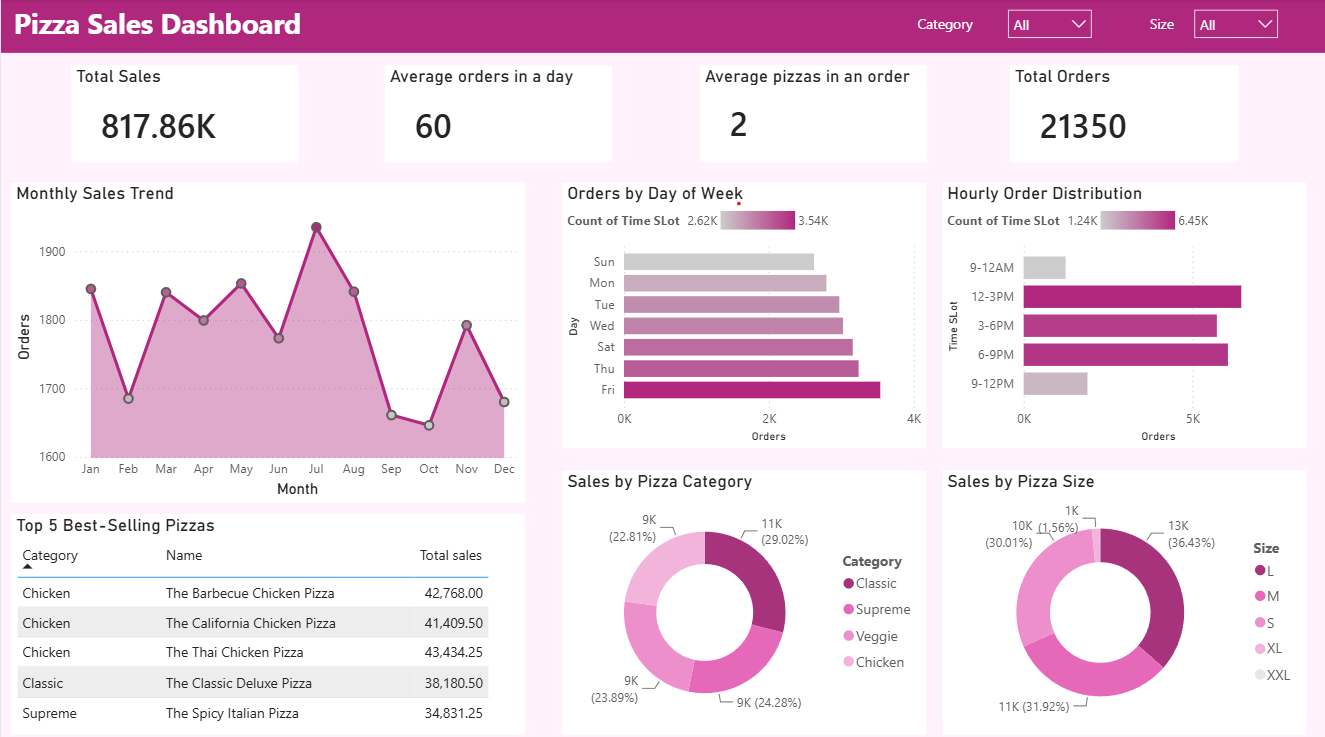

The page's visual inventory and layout, read from the dashboard file:
{"tool":"powerbi","page":{"name":"Page 1","canvas":[1280,720],"ordinal":0},"visuals":[{"type":"textbox","box":[9.7,0,1270.3,51.6],"z":0},{"type":"textbox","box":[1104,10,37.9,29],"z":0,"group":"g1"},{"type":"slicer","fields":{"Values":["pizzas.Size"]},"box":[1141.9,0,101.4,40.1],"z":1000,"group":"g1"},{"type":"barChart","title":"Hourly Order Distribution","fields":{"Category":["orders.Time SLot"],"Y":["Measures (2).Orders"]},"box":[908.6,177.1,351.4,255.7],"z":1000},{"type":"barChart","title":"Orders by Day of Week","fields":{"Category":["Date Table.Day"],"Y":["Measures (2).Orders"]},"box":[541.4,177.1,351.4,255.7],"z":2000},{"type":"lineChart","title":"Monthly Sales Trend","fields":{"Y":["Measures (2).Orders"],"Category":["Date Table.Month"]},"box":[10,177.1,495.7,308.6],"z":3000},{"type":"donutChart","title":"Sales by Pizza Category","fields":{"Category":["pizza types.Category"],"Y":["Measures (2).Orders"]},"box":[541.4,454.3,351.4,255.7],"z":4000},{"type":"donutChart","title":"Sales by Pizza Size","fields":{"Category":["pizzas.Size"],"Y":["Measures (2).Orders"]},"box":[908.6,454.3,351.4,255.7],"z":5000},{"type":"tableEx","title":"Top 5 Best-Selling Pizzas","fields":{"Values":["pizza types.Category","pizza types.Name","Measures (2).Total sales"]},"box":[10,497.1,495.7,212.9],"z":6000},{"type":"cardVisual","title":"Total Sales","fields":{"Data":["Measures (2).Total sales"]},"box":[68,63.5,219.5,93.6],"z":7000},{"type":"cardVisual","title":"Average orders in a day","fields":{"Data":["Measures (2).Average orders in a day"]},"box":[369.9,63.6,219.5,93.6],"z":8000},{"type":"cardVisual","title":"Average pizzas in an order","fields":{"Data":["Measures (2).Average pizzas in a day"]},"box":[674.6,63.8,219,93.3],"z":9000},{"type":"slicer","fields":{"Values":["pizza types.Category"]},"box":[962.5,0,101.4,40.1],"z":10000,"group":"g2"},{"type":"cardVisual","title":"Total Orders","fields":{"Data":["Measures (2).Orders"]},"box":[973.6,63.7,220.6,93.6],"z":10000},{"type":"group","id":"g1","title":"Group 2","box":[1104,0,139.3,40.1],"z":11000},{"type":"textbox","box":[880,10,80,32],"z":11001,"group":"g2"},{"type":"group","id":"g2","title":"Group 1","box":[880,0,183.9,42],"z":12000}]}

Visuals, with their boxes in screenshot pixels (x1, y1, x2, y2), scaled from the page's 1280x720 canvas onto the 1325x737 screenshot:
textbox: box(10, 0, 1324, 53)
textbox: box(1143, 10, 1182, 40)
slicer - pizzas.Size: box(1182, 0, 1287, 41)
"Hourly Order Distribution" barChart: box(941, 181, 1304, 443)
"Orders by Day of Week" barChart: box(560, 181, 924, 443)
"Monthly Sales Trend" lineChart: box(10, 181, 523, 497)
"Sales by Pizza Category" donutChart: box(560, 465, 924, 727)
"Sales by Pizza Size" donutChart: box(941, 465, 1304, 727)
"Top 5 Best-Selling Pizzas" tableEx: box(10, 509, 523, 727)
"Total Sales" cardVisual: box(70, 65, 298, 161)
"Average orders in a day" cardVisual: box(383, 65, 610, 161)
"Average pizzas in an order" cardVisual: box(698, 65, 925, 161)
slicer - pizza types.Category: box(996, 0, 1101, 41)
"Total Orders" cardVisual: box(1008, 65, 1236, 161)
"Group 2" group: box(1143, 0, 1287, 41)
textbox: box(911, 10, 994, 43)
"Group 1" group: box(911, 0, 1101, 43)
